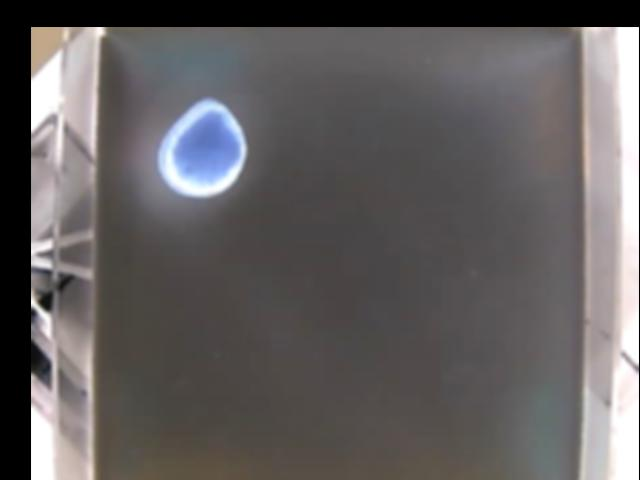Potato: (156, 94, 248, 201)
